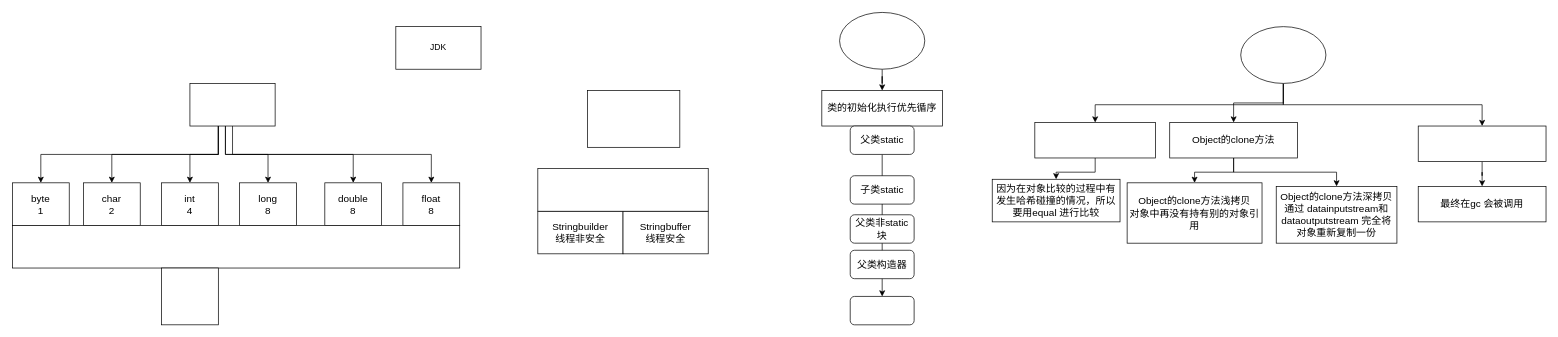
Some shapes in this 1558 by 337 pixel diagram are drawn without their labels. Here are the shapes that lost their labels. From the top down, the centre of each, then its label:
pixel 882 40: Class
pixel 1283 54: Object
pixel 232 104: 基本数据类型
pixel 633 118: String stirng 的拼接实质上是 通过stringbuilder 进行累加
pixel 1095 140: object为什么要重写hashcode和equal方法
pixel 1482 143: Object的finalize方法
pixel 622 189: AbstractStringBuilder
pixel 236 246: 范围问题 精度问题
pixel 189 296: Integer 缓存-127-128 通过valueOf
pixel 882 310: 子类非static 块
